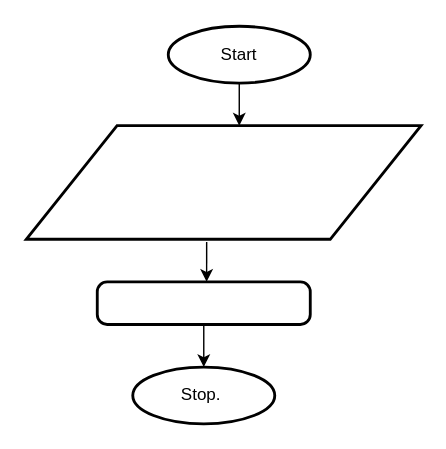
This 446x449 diagram has some shape labels left out. The centre of each missing label's shape, as x and y in pixels:
"Prompt totalExpenses, totalIncome Get totalExpenses, totalIncome" goes at point (223, 182).
"returnOnInvestment()" goes at point (203, 302).
